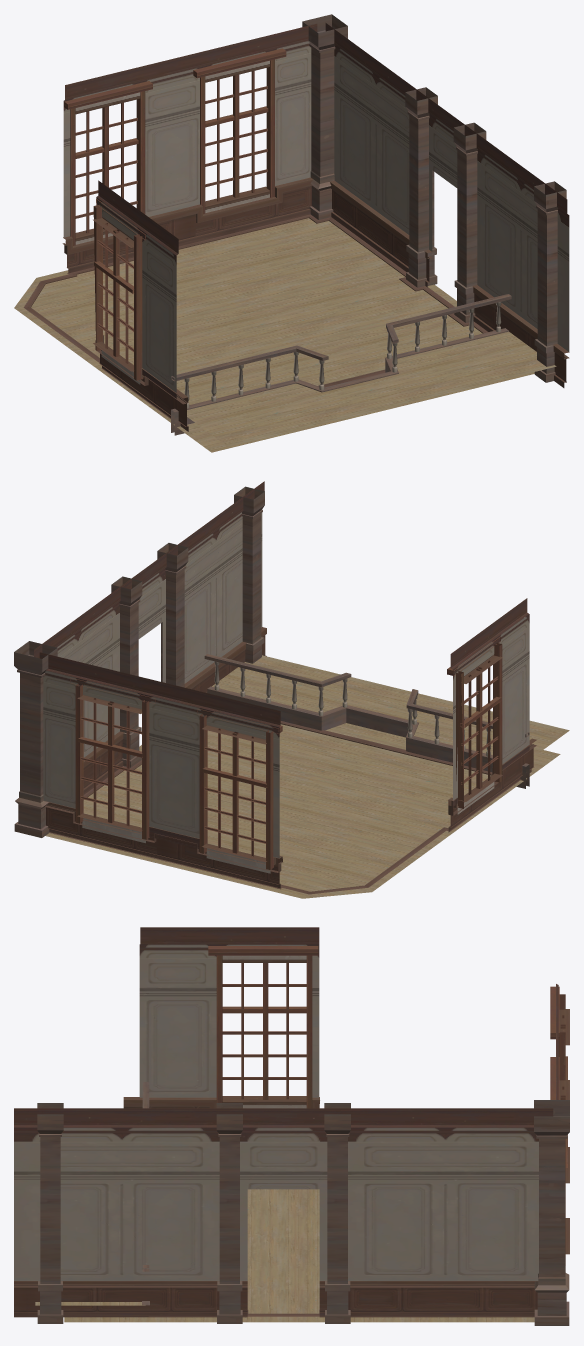
Rendered from Cuarto2.obj.
The picture shows the model from 3 angles, top to bottom: view 1: azimuth 30°, elevation 25°; view 2: azimuth 150°, elevation 25°; view 3: azimuth 270°, elevation 25°; orthographic projection. The views are drawn at different scales.
Size of the model in its own units: 12.79 by 6.73 by 15.46.
Materials: 5 (5 with a texture image).
